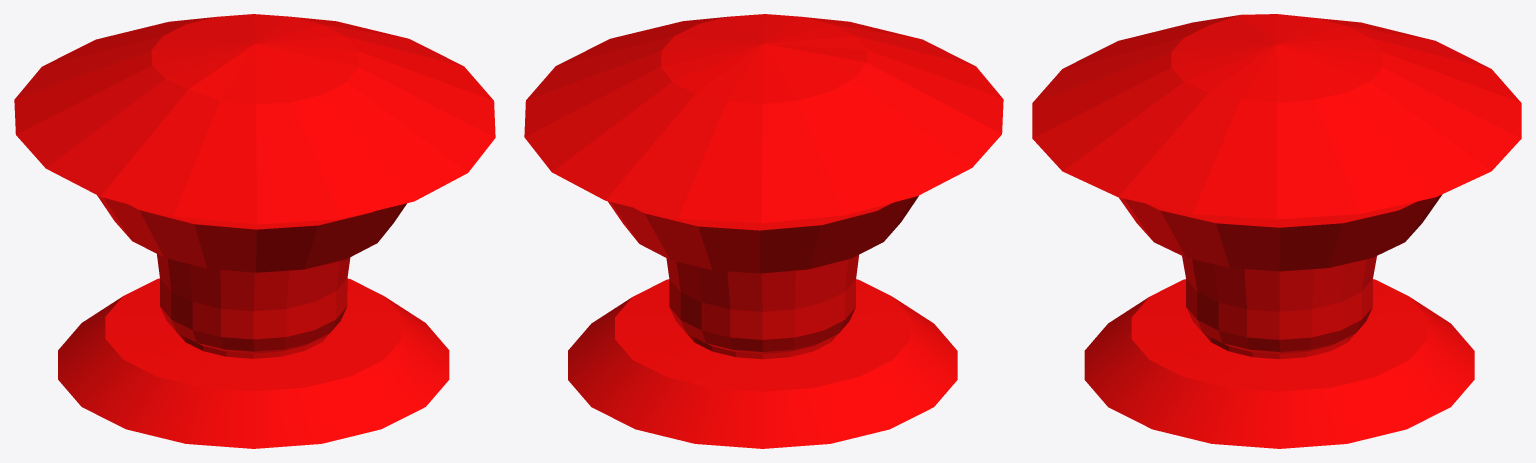
Rendered from Bumper.FBX.
3 renders of one model, left to right at view 1: azimuth 30°, elevation 25°; view 2: azimuth 150°, elevation 25°; view 3: azimuth 270°, elevation 25°, orthographic.
Bounding box in the file's own units: 12.65 × 9.3 × 12.86.
